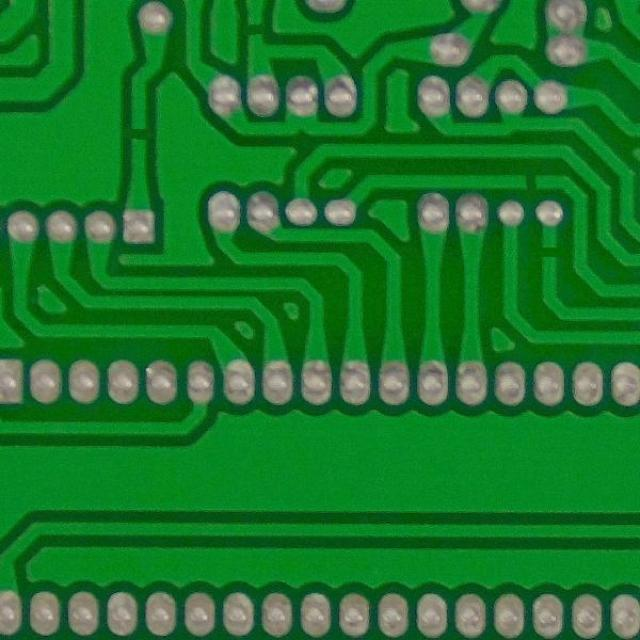Open_Circuit: (509, 164, 552, 197), (530, 236, 569, 270), (122, 116, 156, 154), (240, 13, 272, 46)
